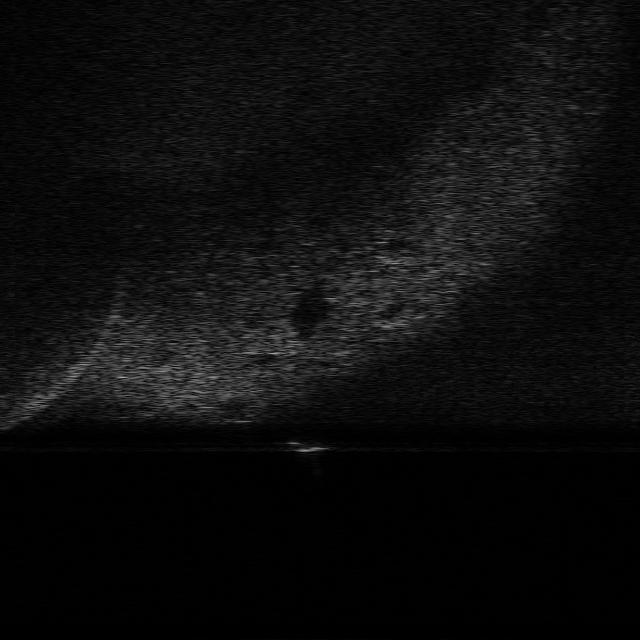cube: (282, 437, 332, 459)
